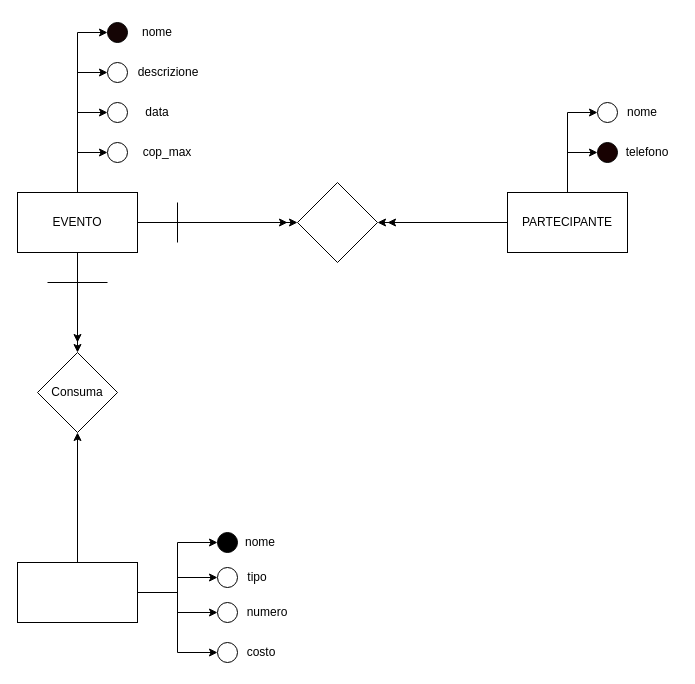
This 695x684 diagram has some shape labels left out. The shapes that lost their labels are listed below. From the top down, each one's centre as x and y in pixels, then its label:
the point at 337,222: Composto
the point at 77,592: RISORSA
